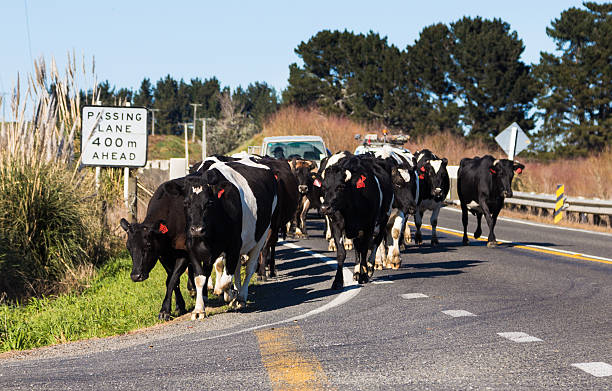inek: (191, 146, 288, 306), (115, 172, 199, 316), (320, 148, 412, 278), (458, 146, 522, 242), (285, 149, 321, 230), (416, 156, 451, 236)
